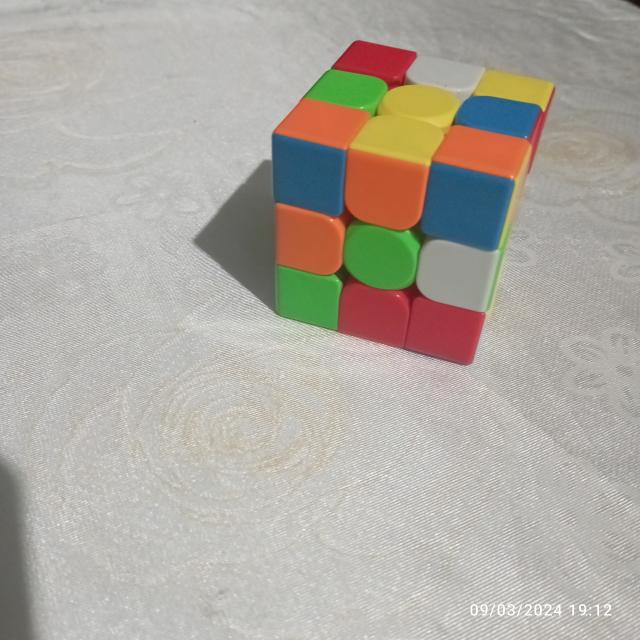Rub: (268, 31, 562, 368)
